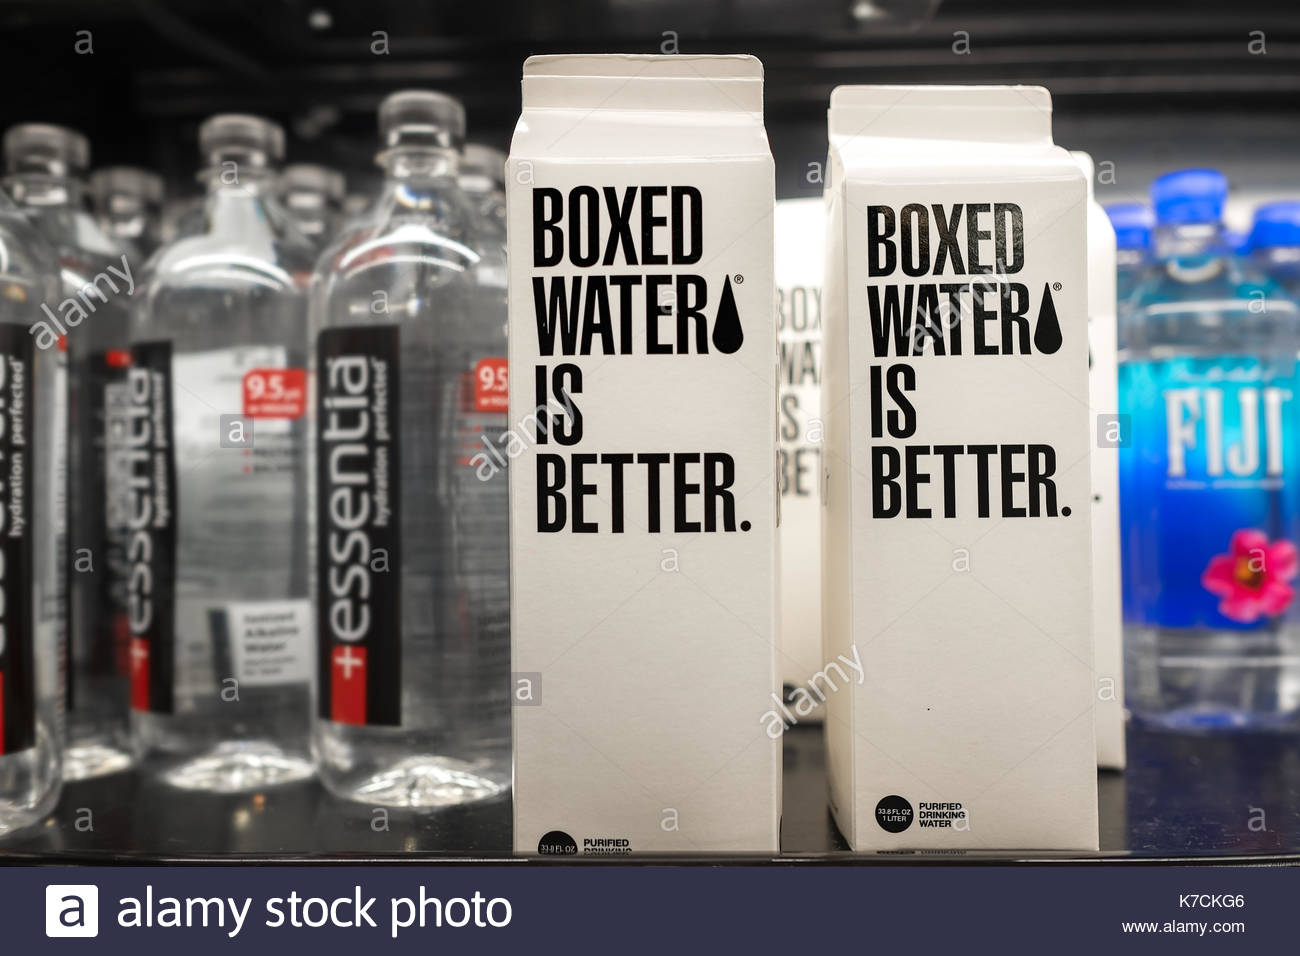carton: (813, 75, 1131, 870), (490, 46, 797, 864)
